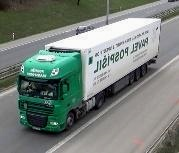truck: (15, 14, 165, 137)
